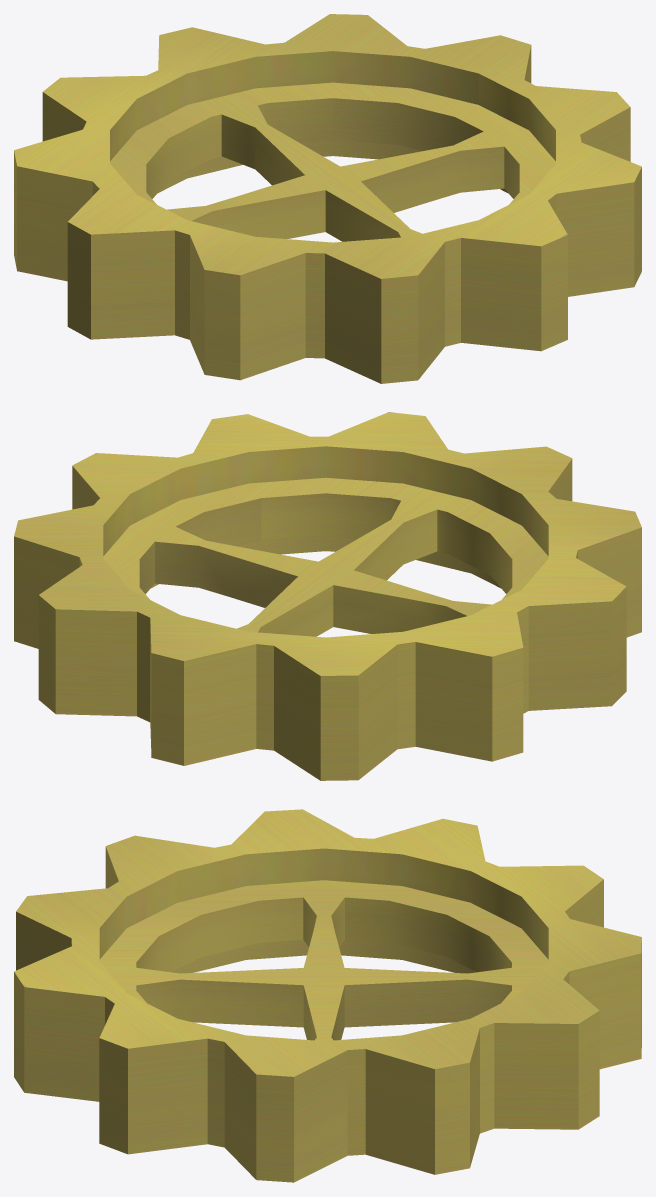
Rendered from CogInset4Spoke011.fbx.
3 renders of one model, top to bottom at view 1: azimuth 30°, elevation 25°; view 2: azimuth 150°, elevation 25°; view 3: azimuth 270°, elevation 25°, orthographic.
Visible parts, largest first — view 1: CogInset4Spoke011; view 2: CogInset4Spoke011; view 3: CogInset4Spoke011.
Part boxes in pixels (x1=…): CogInset4Spoke011: x1=14, y1=14, x2=641, y2=383; CogInset4Spoke011: x1=14, y1=412, x2=641, y2=780; CogInset4Spoke011: x1=14, y1=809, x2=641, y2=1182.
Bounding box in the file's own units: 107 × 19.69 × 106.
